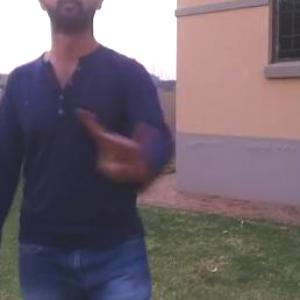takeoff-hand: (83, 99, 158, 181)
